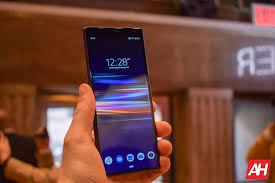sony: (80, 22, 164, 179)
